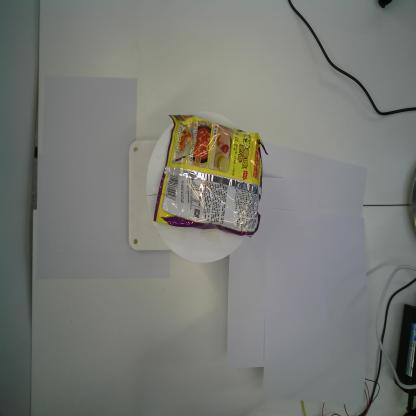Instant Noodles: (152, 112, 270, 239)
